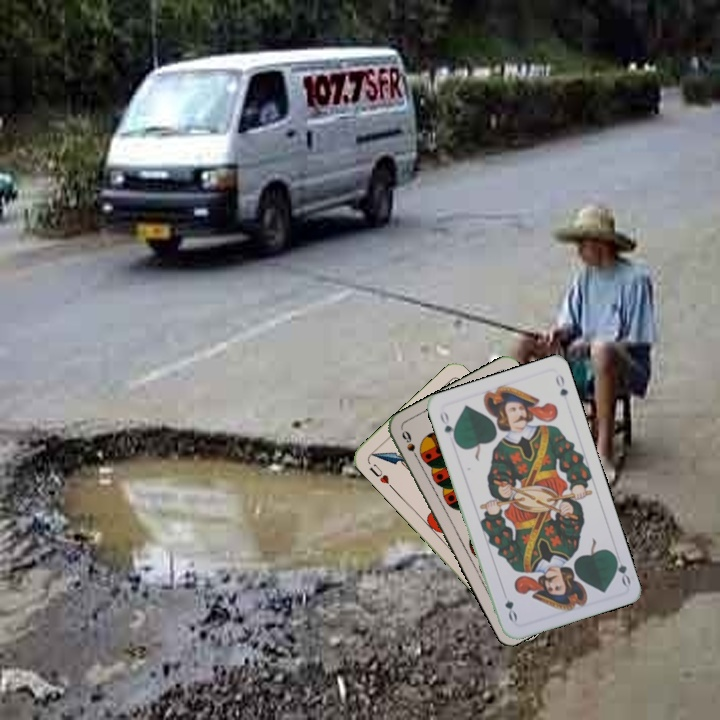GO: (609, 550, 633, 588), (436, 407, 459, 445)
HU: (365, 459, 396, 491)
S9: (398, 426, 422, 464)
